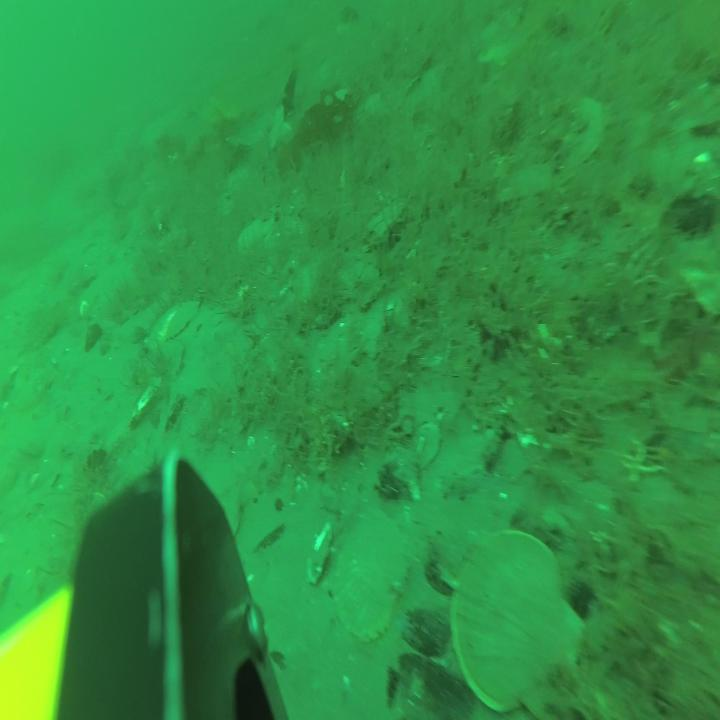scallop: (454, 529, 584, 720), (335, 512, 411, 642), (200, 461, 255, 545), (558, 98, 602, 173), (148, 296, 199, 347), (237, 218, 276, 254)
